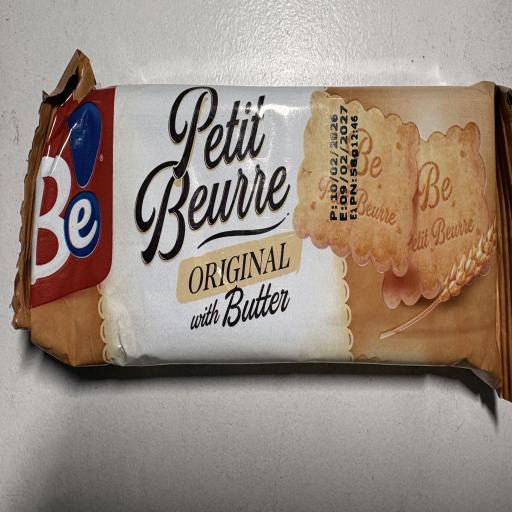petit-beurre: (25, 47, 512, 422)
